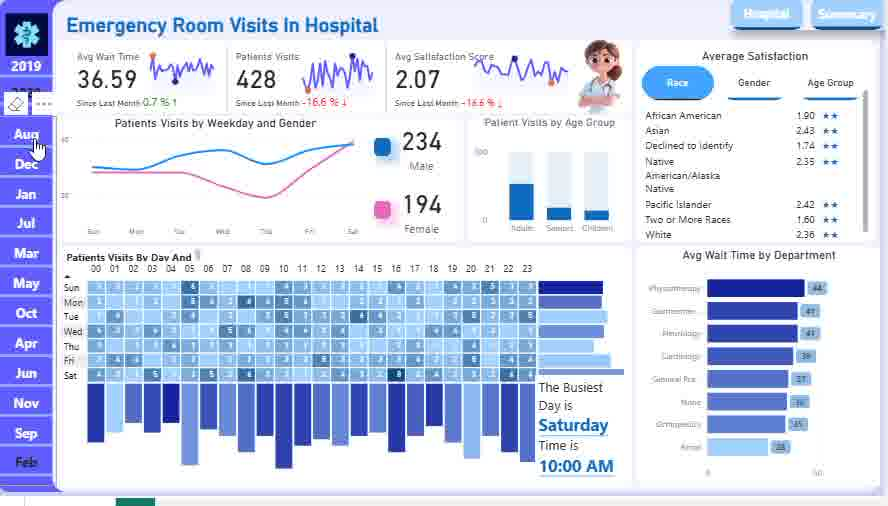

The page's visual inventory and layout, read from the dashboard file:
{"tool":"powerbi","page":{"name":"Hospital ","canvas":[1280,720],"ordinal":0},"visuals":[{"type":"listSlicer","fields":{"Values":["Calendar.Year"]},"box":[0,73.4,87.8,329.8],"z":0},{"type":"listSlicer","fields":{"Values":["Calendar.Month"]},"box":[0,170.3,87.8,532],"z":1000},{"type":"cardVisual","fields":{"Data":["All Measures.Avg Wait Time","All Measures.Patients Visits","All Measures.Avg Satisfaction Score"]},"box":[99.2,59.5,697.9,110.8],"z":2000},{"type":"areaChart","fields":{"Y":["All Measures.Avg Wait Time","All Measures.Avg Wait Time Min Value","All Measures.Avg Wait Time Max Value"],"Category":["Calendar.Day"]},"box":[205.1,59.5,127.3,84.3],"z":3000},{"type":"areaChart","fields":{"Category":["Calendar.Day"],"Y":["All Measures.Patients Visits","All Measures.Patients Visits Max Value","All Measures.Patients Visits Min Value"]},"box":[423.4,59.5,137.3,91],"z":4000},{"type":"areaChart","fields":{"Category":["Calendar.Day"],"Y":["All Measures.Avg Satisfaction Score","All Measures.Avg Satisfaction Score Max Value","All Measures.Avg Satisfaction Score Min Value"]},"box":[669.8,59.5,173.6,84.3],"z":5000},{"type":"card","fields":{"Values":["All Measures.Patients Visits"]},"box":[559.7,169,105.6,90.8],"z":6000},{"type":"card","fields":{"Values":["All Measures.Patients Visits"]},"box":[559.7,259.8,105.6,90.8],"z":7000},{"type":"lineChart","fields":{"Y":["All Measures.Patients Visits"],"Category":["Calendar.Weekday"],"Series":["Hospital ER.Gender"]},"box":[87.8,169.9,456.5,180],"z":8000},{"type":"shape","box":[544.1,201.8,24.8,26.5],"z":9000},{"type":"shape","box":[544.1,292.7,24.8,26.5],"z":10000},{"type":"clusteredColumnChart","title":"Patient Visits by Age Group","fields":{"Category":["Hospital ER.Age Group"],"Y":["All Measures.Patients Visits","All Measures.Patient visit dummy"]},"box":[683,170.3,229.9,180.3],"z":11000},{"type":"tableEx","fields":{"Values":["Hospital ER.Race","All Measures.Avg Satisfaction Score","All Measures.Score Rating"]},"box":[924.4,127.3,337.4,223.3],"z":12000},{"type":"advancedSlicerVisual","title":"Average Satisfaction ","fields":{"Values":["Parameter score.Parameter score"]},"box":[924.4,72.8,337.4,79.4],"z":13000},{"type":"clusteredBarChart","title":"Avg Wait Time by Department","fields":{"Y":["All Measures.Avg Wait Time"],"Category":["Hospital ER.Department Referral"]},"box":[924.4,360.5,348.9,342.3],"z":14000},{"type":"pivotTable","fields":{"Values":["All Measures.Patients Visits"],"Rows":["Calendar.Weekday"],"Columns":["Hospital ER.Hour"]},"box":[87.8,374.4,695.5,193],"z":15000},{"type":"clusteredBarChart","fields":{"Category":["Calendar.Weekday"],"Y":["All Measures.Patients Visits"]},"box":[776.2,394.6,138.2,164.2],"z":16000},{"type":"clusteredColumnChart","fields":{"Y":["All Measures.Patients Visits"],"Category":["Hospital ER.Hour"]},"box":[126.7,541.4,656.6,161.3],"z":17000},{"type":"textbox","box":[776.2,542.9,136.8,159.8],"z":18000},{"type":"textbox","box":[96.5,357.1,203,27.4],"z":19000},{"type":"textbox","box":[96.5,17.3,501.1,56.2],"z":20000},{"type":"pageNavigator","box":[1057,0,223.2,46.1],"z":21000},{"type":"image","box":[5.8,17.3,76.3,70.6],"z":21001}]}

Visuals, with their boxes in screenshot pixels (x1, y1, x2, y2), scaled from the page's 1280x720 canvas onto the 888x506 screenshot:
listSlicer - Calendar.Year: crop(0, 52, 61, 283)
listSlicer - Calendar.Month: crop(0, 120, 61, 494)
cardVisual - All Measures.Avg Wait Time x All Measures.Patients Visits: crop(69, 42, 553, 120)
areaChart - All Measures.Avg Wait Time x All Measures.Avg Wait Time Min Value: crop(142, 42, 231, 101)
areaChart - Calendar.Day x All Measures.Patients Visits: crop(294, 42, 389, 106)
areaChart - Calendar.Day x All Measures.Avg Satisfaction Score: crop(465, 42, 585, 101)
card - All Measures.Patients Visits: crop(388, 119, 462, 183)
card - All Measures.Patients Visits: crop(388, 183, 462, 246)
lineChart - All Measures.Patients Visits x Calendar.Weekday: crop(61, 119, 378, 246)
shape: crop(377, 142, 395, 160)
shape: crop(377, 206, 395, 224)
"Patient Visits by Age Group" clusteredColumnChart: crop(474, 120, 633, 246)
tableEx - Hospital ER.Race x All Measures.Avg Satisfaction Score: crop(641, 89, 875, 246)
"Average Satisfaction " advancedSlicerVisual: crop(641, 51, 875, 107)
"Avg Wait Time by Department" clusteredBarChart: crop(641, 253, 883, 494)
pivotTable - All Measures.Patients Visits x Calendar.Weekday: crop(61, 263, 543, 399)
clusteredBarChart - Calendar.Weekday x All Measures.Patients Visits: crop(538, 277, 634, 393)
clusteredColumnChart - All Measures.Patients Visits x Hospital ER.Hour: crop(88, 380, 543, 494)
textbox: crop(538, 382, 633, 494)
textbox: crop(67, 251, 208, 270)
textbox: crop(67, 12, 415, 52)
pageNavigator: crop(733, 0, 887, 32)
image: crop(4, 12, 57, 62)
